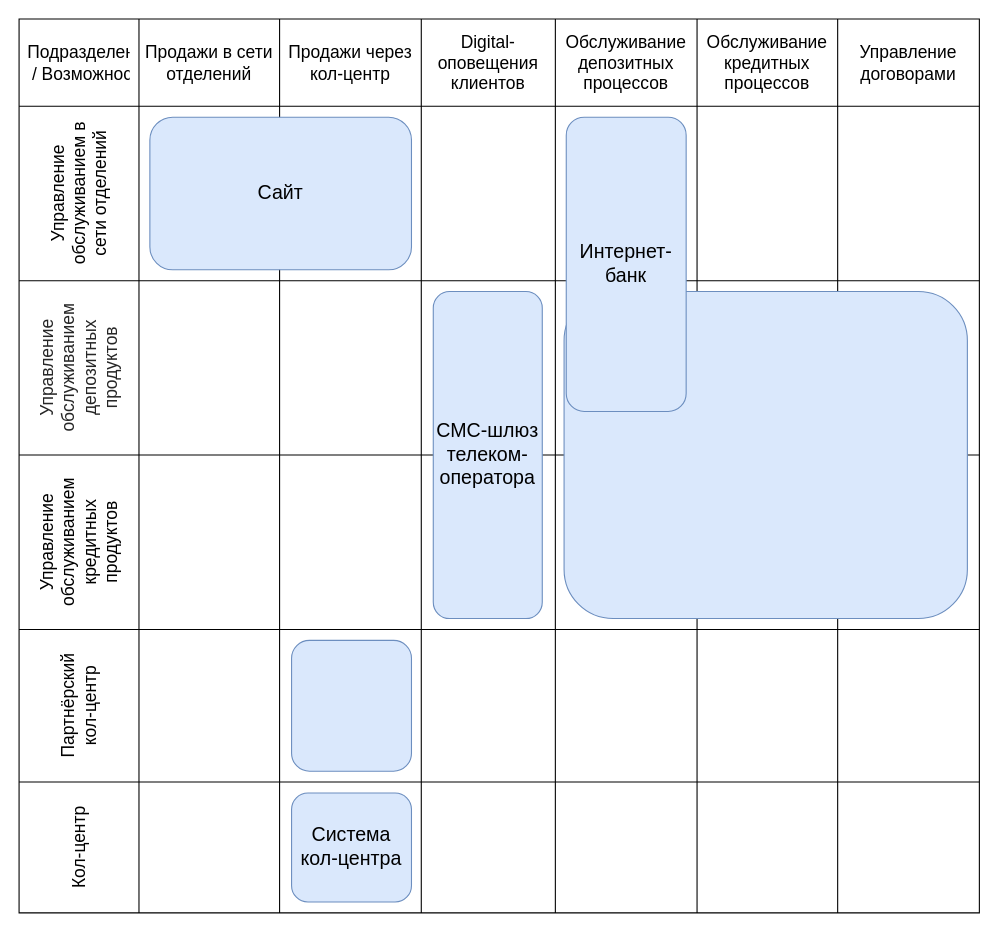
Some shapes in this 998 by 932 pixel diagram are drawn without their labels. The shapes that lost their labels are listed below. From the top down, each one's box as (x1, y1, x2, y2) in pixels, then its label:
(563, 290, 967, 619): Автоматизированная банковская система (АБС)
(290, 639, 411, 771): Система партнерского кол-центра
